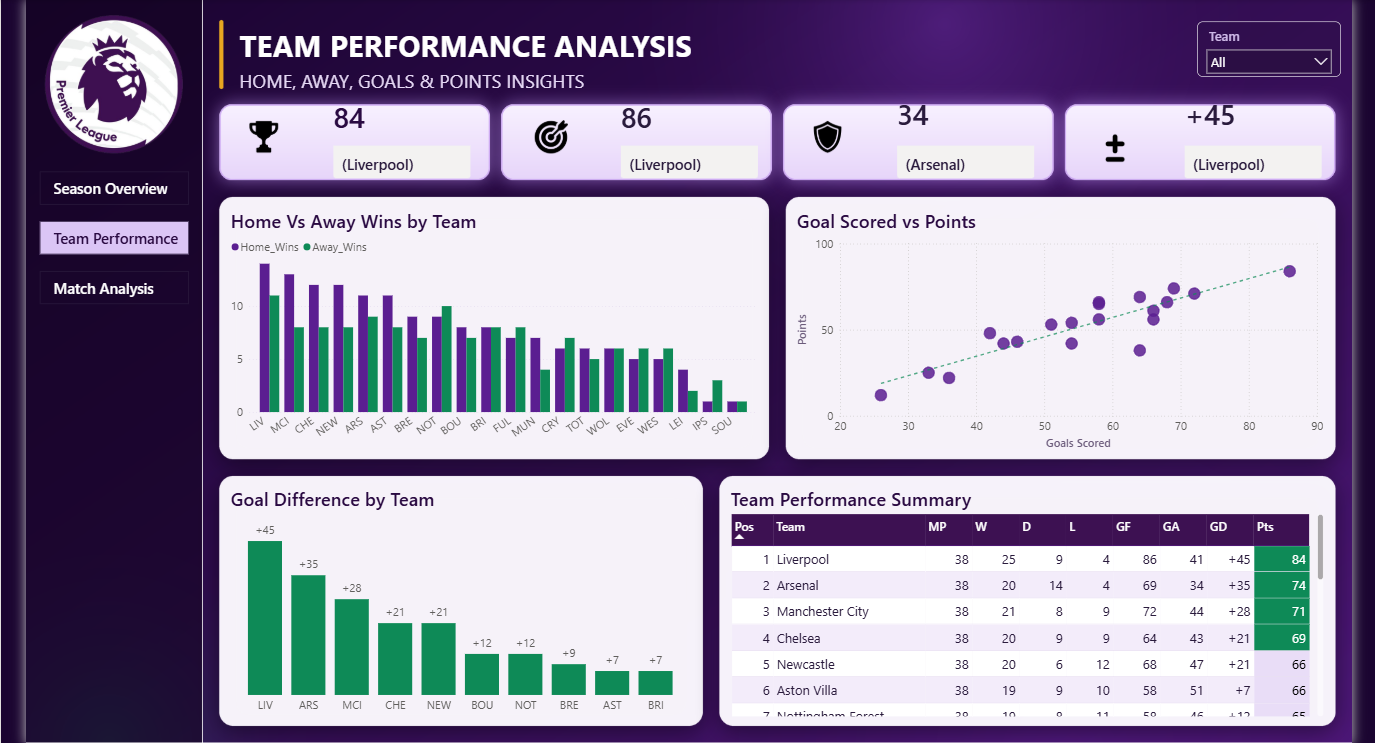

Layout of this report page (visuals, bound fields, positions):
{"tool":"powerbi","page":{"name":"Team Performance","canvas":[1920,1080],"ordinal":1},"visuals":[{"type":"image","box":[28,24,200,200],"z":0},{"type":"pageNavigator","box":[20,250,216,192],"z":1000},{"type":"textbox","box":[304,32,960,80],"z":2000},{"type":"textbox","box":[304,96,960,80],"z":3000},{"type":"slicer","title":"Team","fields":{"Values":["DimTeam.team_name"]},"box":[1696,32,208,80],"z":4000},{"type":"cardVisual","fields":{"Data":["_Measure.Highest Points"]},"box":[416,112,256,176],"z":5000},{"type":"cardVisual","fields":{"Data":["_Measure.Most Goals"]},"box":[832,112,256,176],"z":6000},{"type":"cardVisual","fields":{"Data":["_Measure.Fewest Goals Conceded"]},"box":[1232,112,256,176],"z":7000},{"type":"cardVisual","fields":{"Data":["_Measure.Best Goal Difference"]},"box":[1648,112,256,176],"z":8000},{"type":"clusteredColumnChart","title":"Home Vs Away Wins by Team","fields":{"Category":["DimTeam.team_code"],"Y":["Sum(TeamPerf.home_wins)","Sum(TeamPerf.away_wins)"]},"box":[292,302,772,356],"z":9000},{"type":"scatterChart","title":"Goal Scored vs Points","fields":{"Category":["DimTeam.team_name"],"X":["Sum(Standings.goals_scored)"],"Y":["Sum(Standings.points)"]},"box":[1112,302,772,356],"z":10000},{"type":"clusteredColumnChart","title":"Goal Difference by Team","fields":{"Category":["DimTeam.team_code"],"Y":["Sum(Standings.goal_difference)"]},"box":[292,706,676,338],"z":11000},{"type":"tableEx","title":"Team Performance Summary","fields":{"Values":["Standings.position","Standings.team_name","Standings.matches_played","Sum(Standings.wins)","Sum(Standings.draws)","Sum(Standings.losses)","Sum(Standings.goals_scored)","Sum(Standings.goals_conceded)","Sum(Standings.goal_difference)","Sum(Standings.points)"]},"box":[1016,706,868,338],"z":12000},{"type":"image","box":[320,176,48,48],"z":12001},{"type":"image","box":[1552,192,48,48],"z":12002},{"type":"image","box":[1136,176,48,48],"z":12003},{"type":"image","box":[736,176,48,48],"z":12004}]}

Visuals, with their boxes on the page's 1920x1080 design canvas (x1, y1, x2, y2). These are canvas units, not pixel positions in the 1375x743 screenshot, which may show the page scaled, cropped or inside an application window:
image: left=28, top=24, right=228, bottom=224
pageNavigator: left=20, top=250, right=236, bottom=442
textbox: left=304, top=32, right=1264, bottom=112
textbox: left=304, top=96, right=1264, bottom=176
"Team" slicer: left=1696, top=32, right=1904, bottom=112
cardVisual - _Measure.Highest Points: left=416, top=112, right=672, bottom=288
cardVisual - _Measure.Most Goals: left=832, top=112, right=1088, bottom=288
cardVisual - _Measure.Fewest Goals Conceded: left=1232, top=112, right=1488, bottom=288
cardVisual - _Measure.Best Goal Difference: left=1648, top=112, right=1904, bottom=288
"Home Vs Away Wins by Team" clusteredColumnChart: left=292, top=302, right=1064, bottom=658
"Goal Scored vs Points" scatterChart: left=1112, top=302, right=1884, bottom=658
"Goal Difference by Team" clusteredColumnChart: left=292, top=706, right=968, bottom=1044
"Team Performance Summary" tableEx: left=1016, top=706, right=1884, bottom=1044
image: left=320, top=176, right=368, bottom=224
image: left=1552, top=192, right=1600, bottom=240
image: left=1136, top=176, right=1184, bottom=224
image: left=736, top=176, right=784, bottom=224
